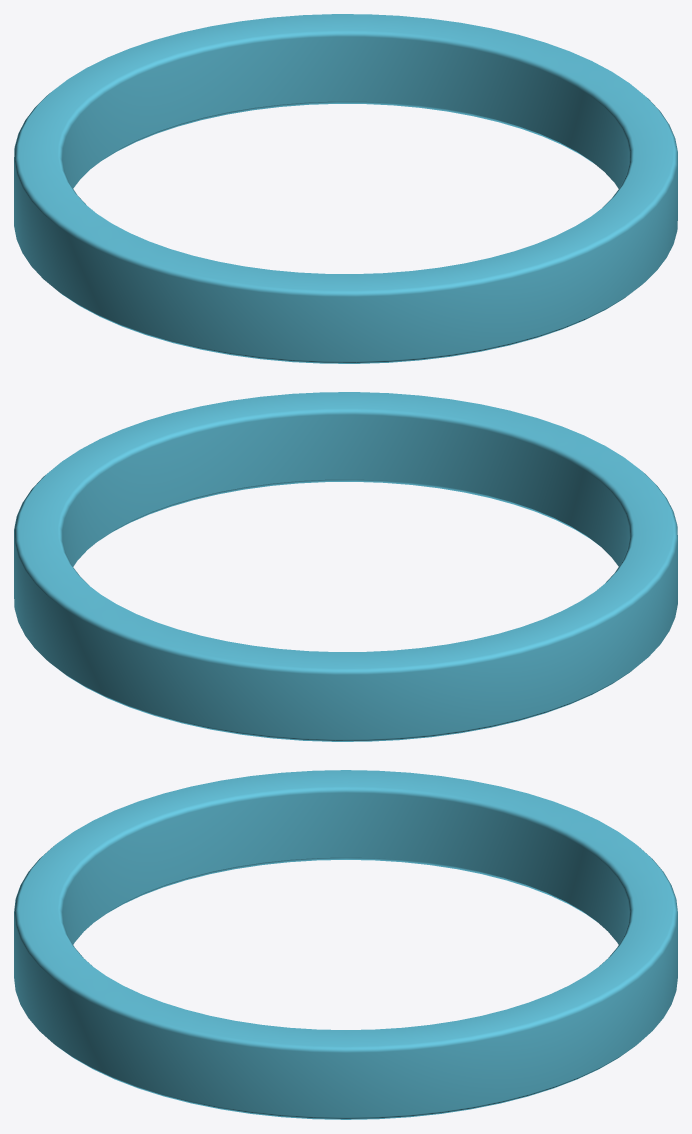
3 views of the same model, one above another, from view 1: azimuth 30°, elevation 25°; view 2: azimuth 150°, elevation 25°; view 3: azimuth 270°, elevation 25° (orthographic).
Parts seen in each view (by area): view 1: seal_body; view 2: seal_body; view 3: seal_body.
Boxes of the visible parts, box(x1,y1,x2,y2) form: seal_body: box(14, 14, 677, 363); seal_body: box(14, 392, 677, 741); seal_body: box(14, 770, 677, 1119).
Size of the model in its own units: 0.1302 by 0.0159 by 0.1302.
